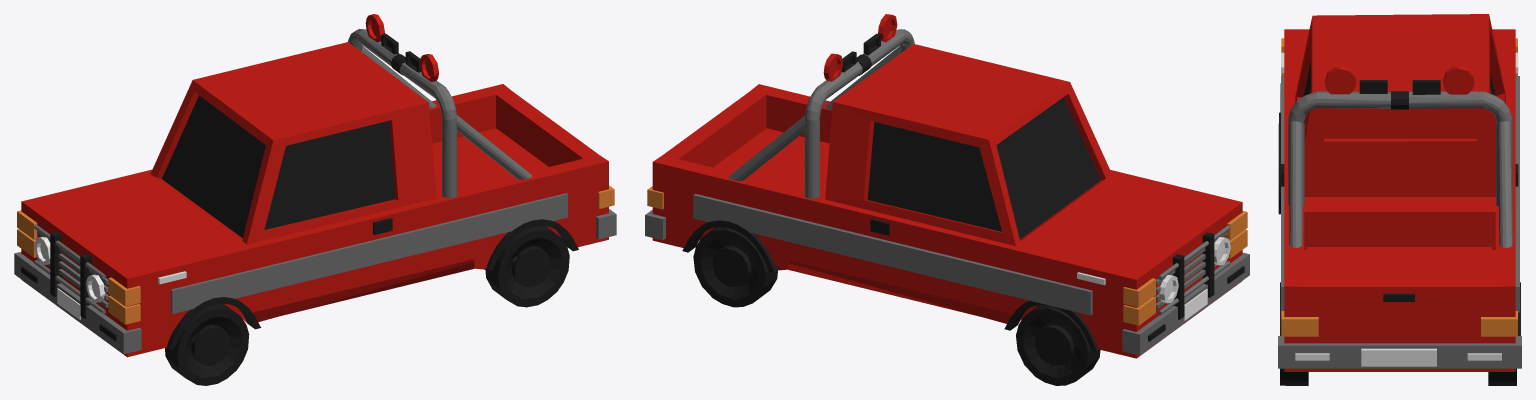
File: car.fbx
3 views of the same model, side by side, from view 1: azimuth 30°, elevation 25°; view 2: azimuth 150°, elevation 25°; view 3: azimuth 270°, elevation 25° (orthographic). The views are drawn at different scales.
Visible parts, largest first — view 1: Cube, Cube.013, Cylinder.014, Cylinder.009, Cube.026, Cube.001, Cylinder.000, Cylinder.003, Cylinder.005, Cylinder.008, Cube.002, Cylinder.001 (+5 smaller); view 2: Cube, Cube.014, Cylinder.010, Cylinder.013, Cube.026, Cube.001, Cylinder.001, Cylinder.004, Cylinder.007, Cube.002, Cylinder.006, Cylinder.000 (+5 smaller); view 3: Cube, Cube.026, Cube.017, Cylinder.001, Cylinder.000, Cylinder.004, Cylinder.003, Cube.023, Cube.014, Cube.013, Cube.021, Cylinder.015 (+10 smaller).
Part boxes in pixels (box(x1,y1,x2,y2)): Cube: box(21, 42, 608, 357); Cube.013: box(171, 193, 567, 313); Cylinder.014: box(485, 225, 569, 307); Cylinder.009: box(165, 304, 249, 385); Cube.026: box(432, 128, 561, 237); Cube.001: box(14, 252, 141, 354); Cylinder.000: box(400, 62, 457, 197); Cylinder.003: box(456, 115, 532, 179); Cylinder.005: box(167, 297, 260, 349); Cylinder.008: box(484, 219, 578, 271); Cube.002: box(36, 231, 108, 307); Cylinder.001: box(348, 29, 400, 66); Cube: box(652, 44, 1242, 358); Cube.014: box(693, 193, 1092, 315); Cylinder.010: box(1016, 305, 1100, 385); Cylinder.013: box(693, 227, 777, 307); Cube.026: box(699, 128, 829, 240); Cube.001: box(1122, 252, 1249, 355); Cylinder.001: box(804, 62, 862, 198); Cylinder.004: box(728, 115, 805, 180); Cylinder.007: box(682, 220, 779, 272); Cube.002: box(1155, 232, 1226, 308); Cylinder.006: box(1004, 300, 1098, 350); Cylinder.000: box(863, 29, 914, 66); Cube: box(1284, 14, 1515, 371); Cube.026: box(1306, 247, 1491, 277); Cube.017: box(1278, 336, 1521, 368); Cylinder.001: box(1409, 91, 1512, 206); Cylinder.000: box(1288, 91, 1390, 205); Cylinder.004: box(1497, 121, 1512, 247); Cylinder.003: box(1289, 121, 1302, 247); Cube.023: box(1361, 348, 1436, 366); Cube.014: box(1515, 76, 1519, 312); Cube.013: box(1281, 76, 1284, 312); Cube.021: box(1281, 311, 1318, 336); Cylinder.015: box(1442, 66, 1474, 94).
Bounding box in the file's own units: 1217 × 586 × 474.
